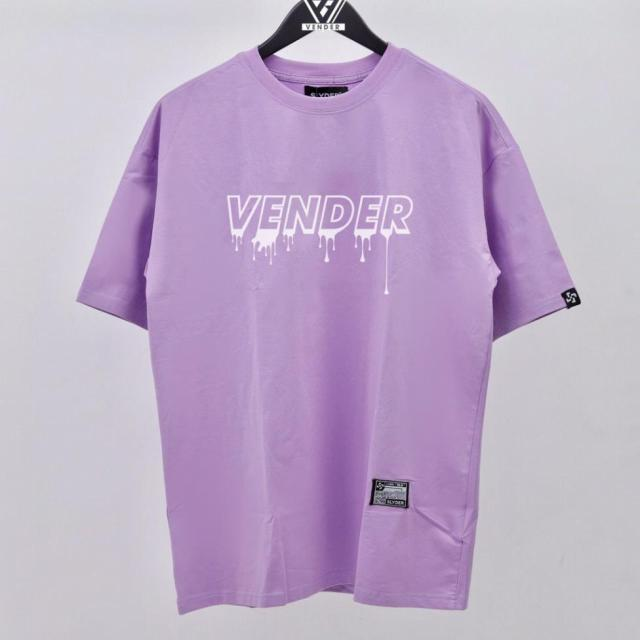Shirt: (73, 38, 581, 614)
